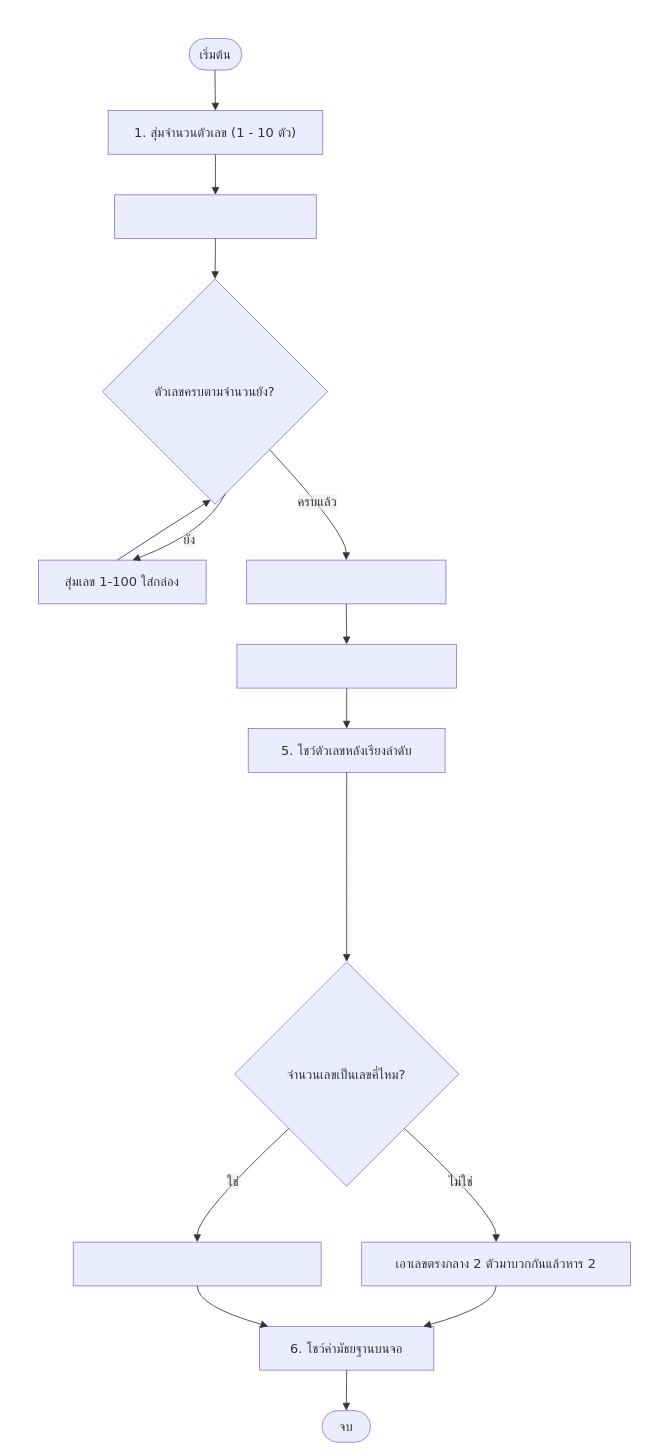
Image size: 645x1456. Some labels were removed from this diagram. The centre of each missing label's shape, as x and y in pixels:
2. แสดงจำนวนตัวเลขที่จะสุ่ม: (x=215, y=216)
3. โชว์ตัวเลขทั้งหมดที่สุ่มได้: (x=346, y=581)
4. เรียงลำดับเลขจากน้อยไปมาก: (x=346, y=666)
หยิบตัวเลขตรงกลางมาเป็นค่ามัธยฐาน: (x=196, y=1263)
